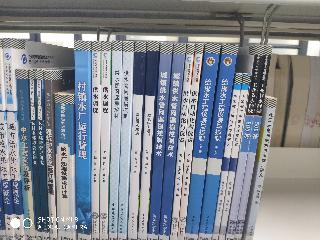book-spine: (196, 44, 237, 240), (182, 43, 220, 240), (234, 45, 271, 240), (226, 45, 263, 240), (146, 43, 173, 240), (177, 44, 203, 240), (219, 75, 249, 240), (159, 44, 184, 240), (212, 74, 241, 239), (170, 43, 193, 240), (245, 98, 276, 240), (136, 42, 158, 240), (3, 39, 23, 240), (115, 42, 133, 240), (127, 43, 145, 239), (16, 70, 36, 239), (75, 42, 90, 239), (0, 41, 14, 240), (107, 42, 121, 240), (55, 94, 74, 239), (28, 70, 42, 239), (89, 43, 101, 239), (35, 70, 48, 239), (44, 71, 57, 239), (100, 42, 110, 239)
